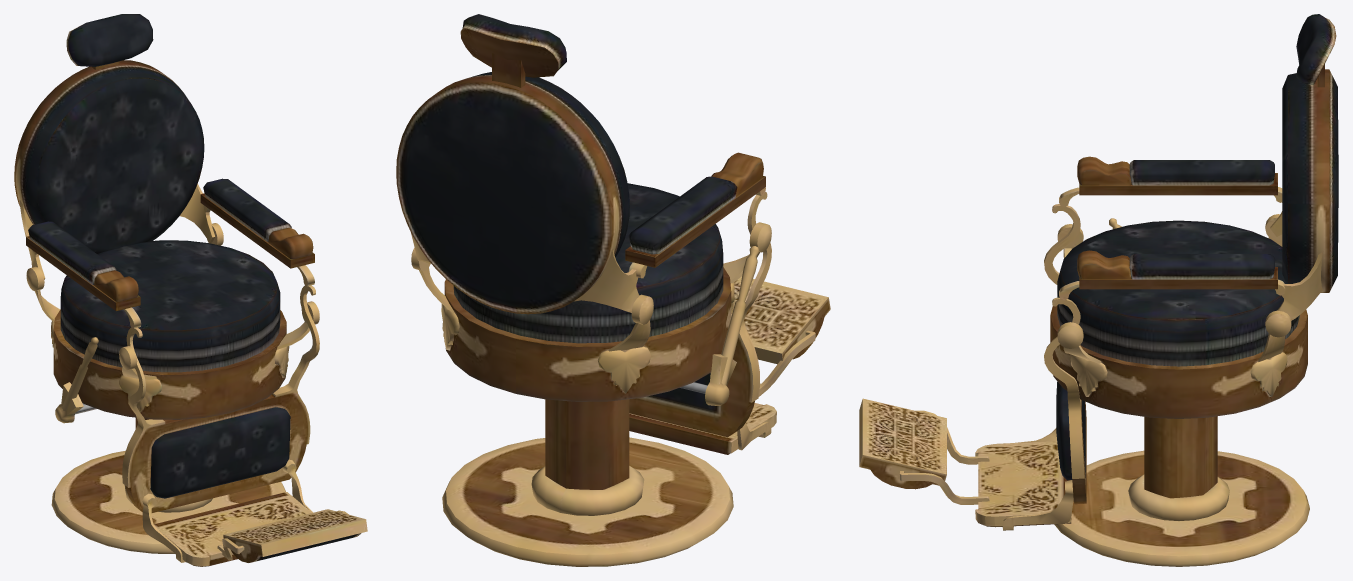
Rendered from BarberShopChair_01.glb.
The picture shows the model from 3 angles, left to right: view 1: azimuth 30°, elevation 25°; view 2: azimuth 150°, elevation 25°; view 3: azimuth 270°, elevation 25°; orthographic projection. The views are drawn at different scales.
Parts seen in each view (by area): view 1: BarberShopChair_01; view 2: BarberShopChair_01; view 3: BarberShopChair_01.
Boxes of the visible parts, x1,y1,x2,y2 form: BarberShopChair_01: [14, 14, 367, 566]; BarberShopChair_01: [396, 14, 830, 566]; BarberShopChair_01: [859, 14, 1338, 566].
Size of the model in its own units: 0.7565 by 1.49 by 1.33.
1 material, 1 textured.
